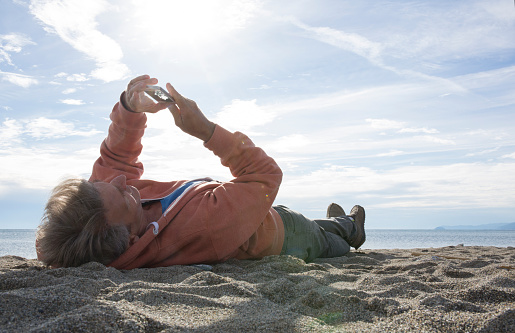deitado: (69, 82, 376, 278)
